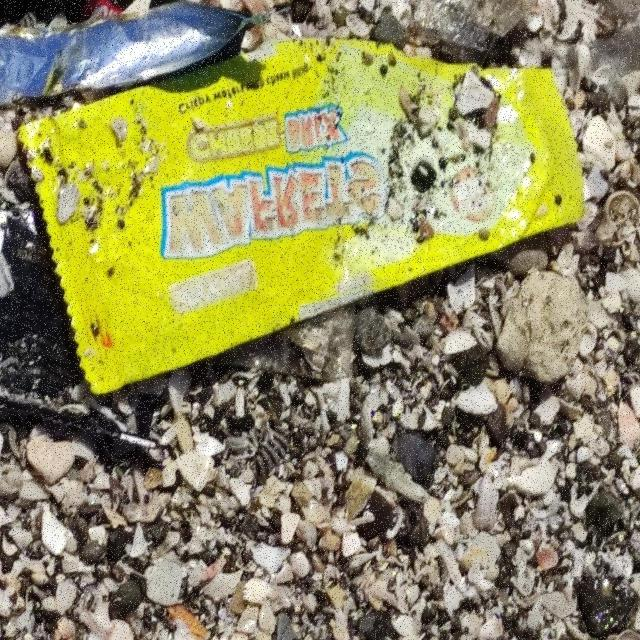plastic_waste: (4, 19, 589, 393)
